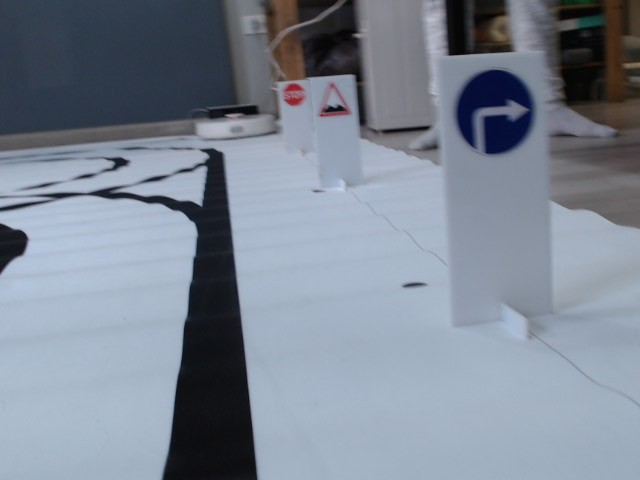Nerov: (316, 83, 351, 117)
Right: (454, 67, 535, 157)
